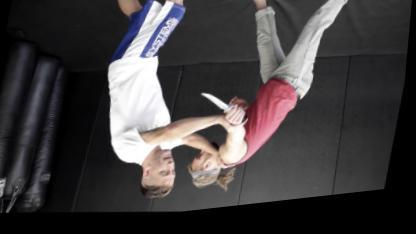knife: (193, 88, 256, 136)
